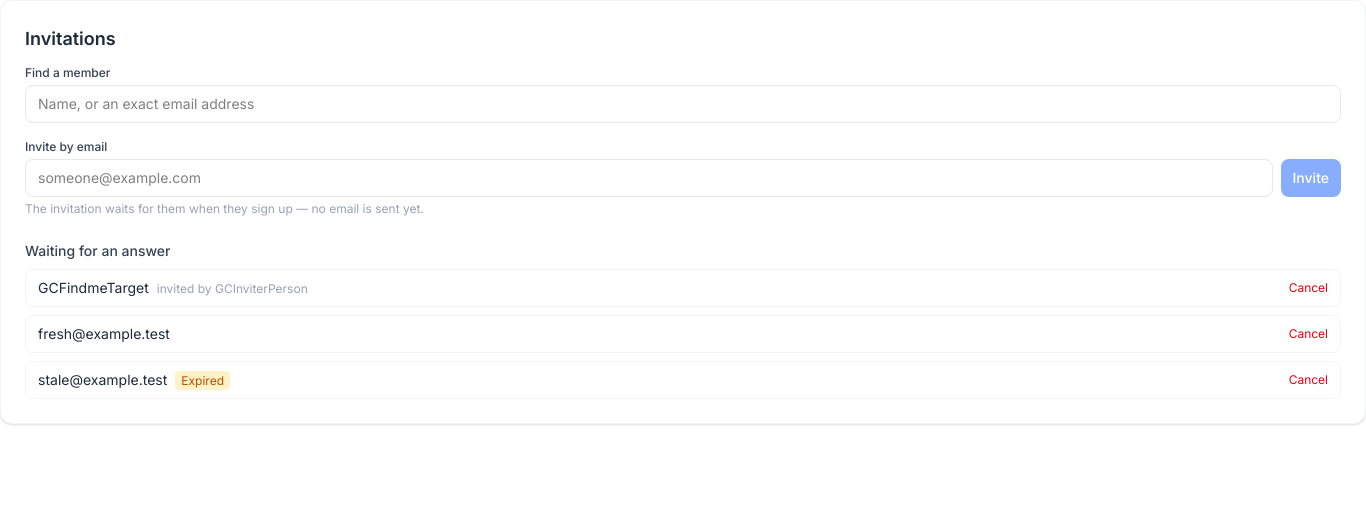
FEAT-H015 — InvitationsPanel (STORY-1/2/3) › typeahead searches (debounced) and disables already-member hits from membership_status
Type "GCF" into the field with test id "member-search-input" at {"x": 683, "y": 104}, box x1=25 y1=85 x2=1341 y2=123
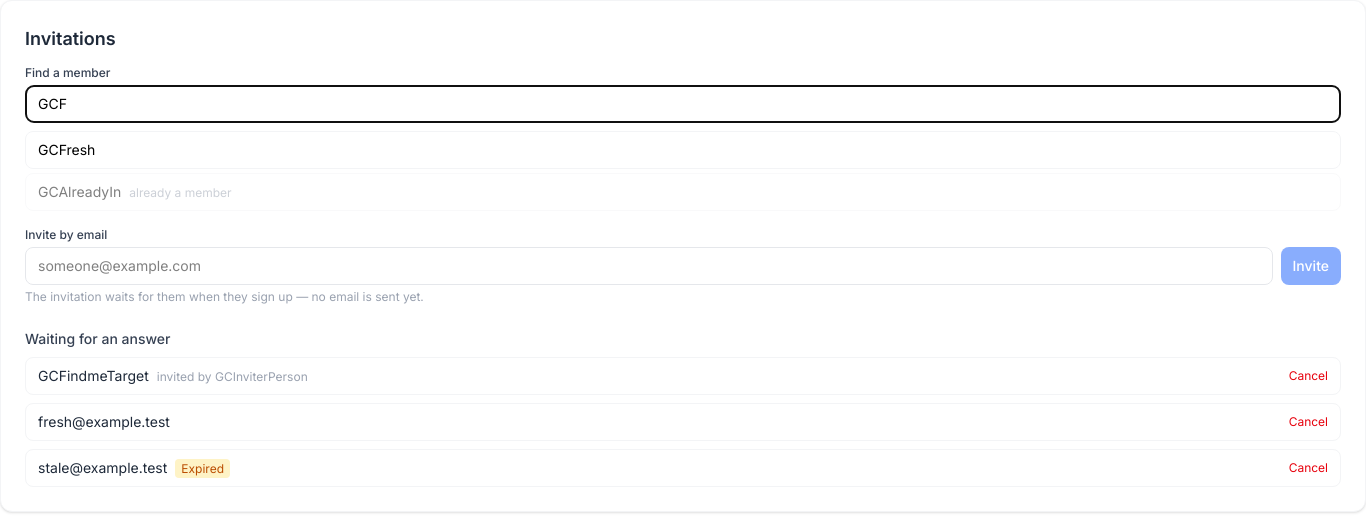
expect the button "GCFresh" is enabled: met, box x1=25 y1=131 x2=1341 y2=169
expect the button "GCAlreadyIn" is disabled: met, box x1=25 y1=173 x2=1341 y2=211
